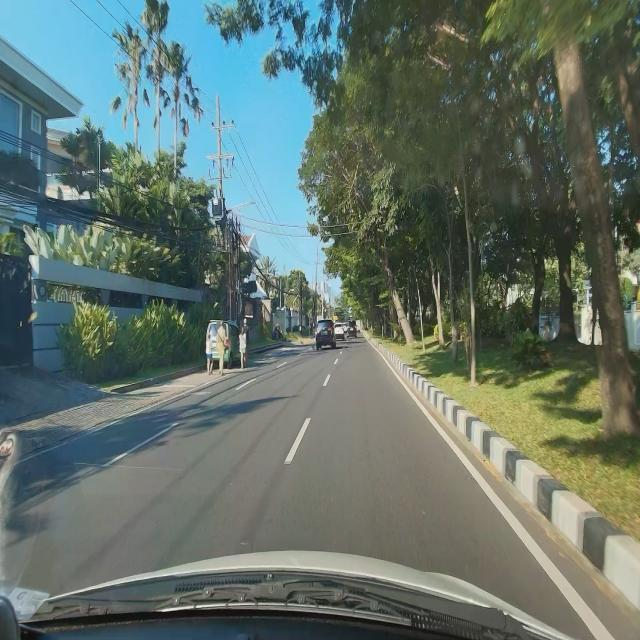car: (315, 318, 336, 352)
